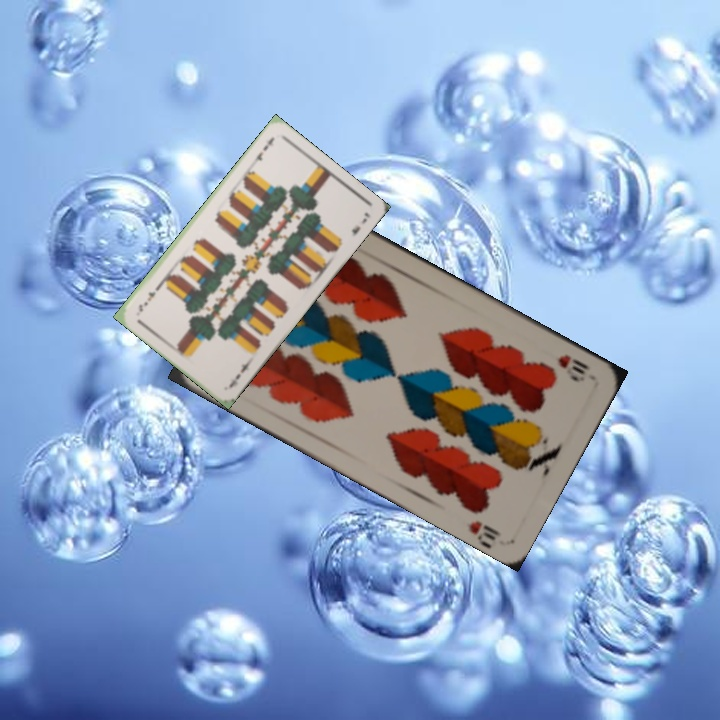E7: (225, 355, 255, 390), (248, 132, 277, 168)
H10: (553, 350, 592, 384)
